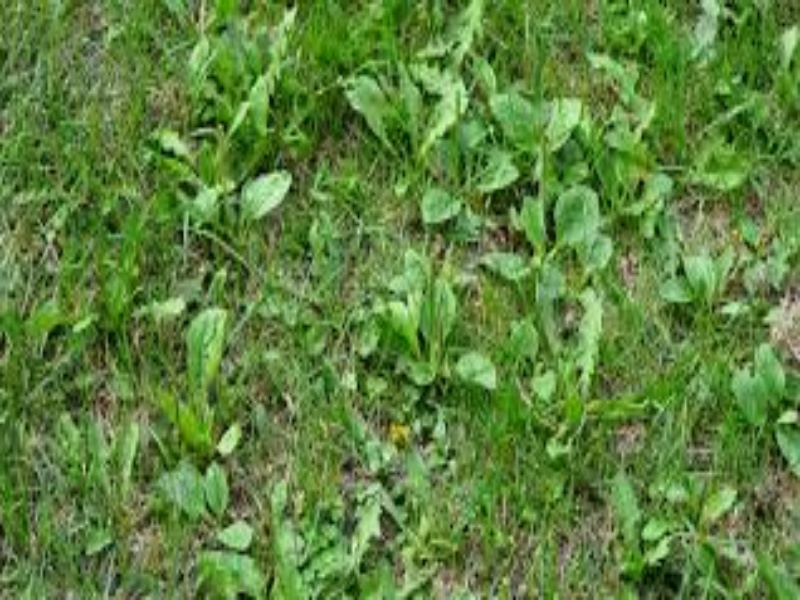weed: (360, 258, 498, 392), (145, 303, 243, 458), (156, 121, 293, 220), (487, 193, 602, 305), (350, 64, 474, 165), (727, 338, 800, 464), (644, 479, 752, 564)
